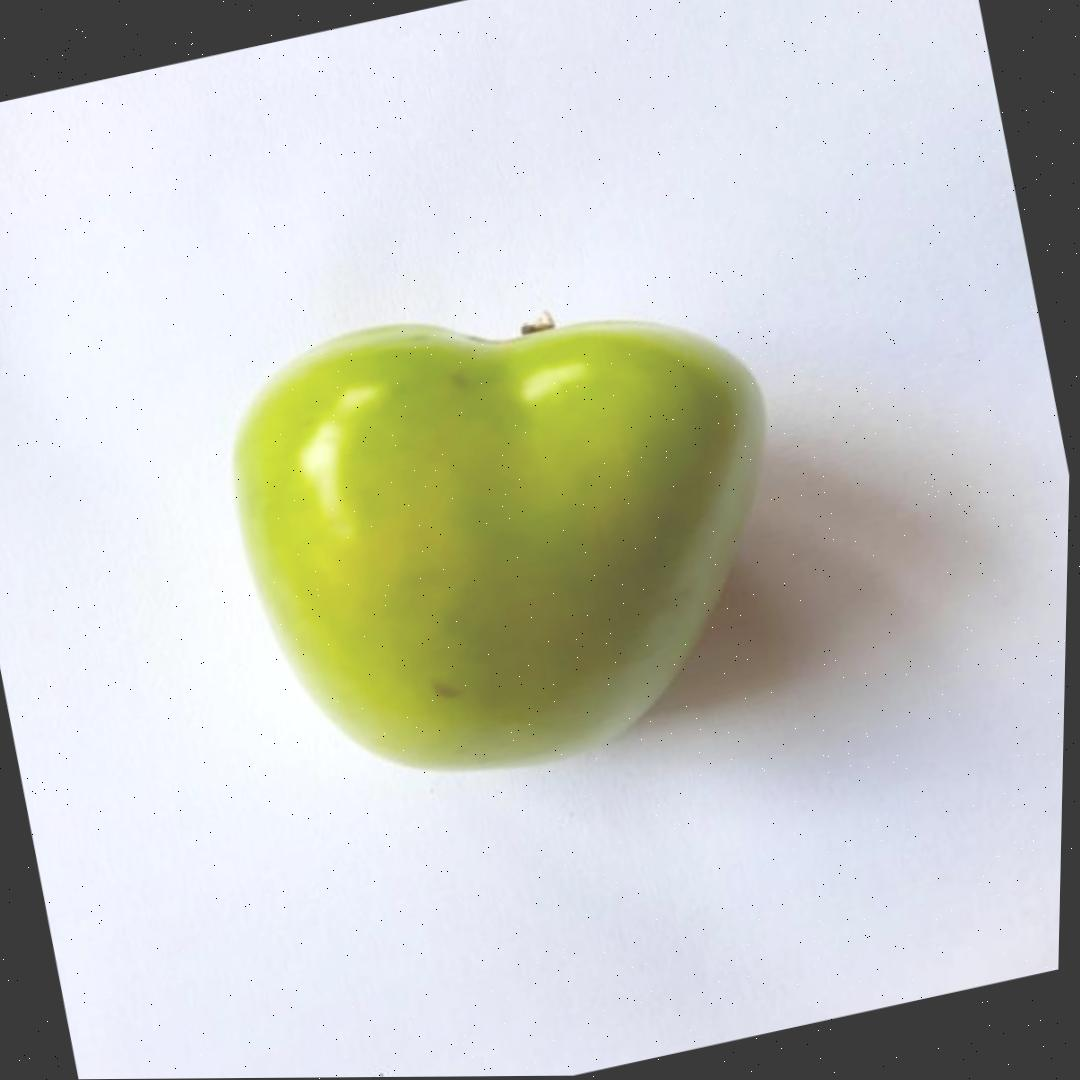mentah: (200, 247, 834, 823)
